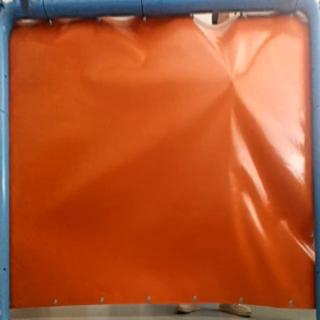Hit-hRxx: (226, 69, 242, 90)
